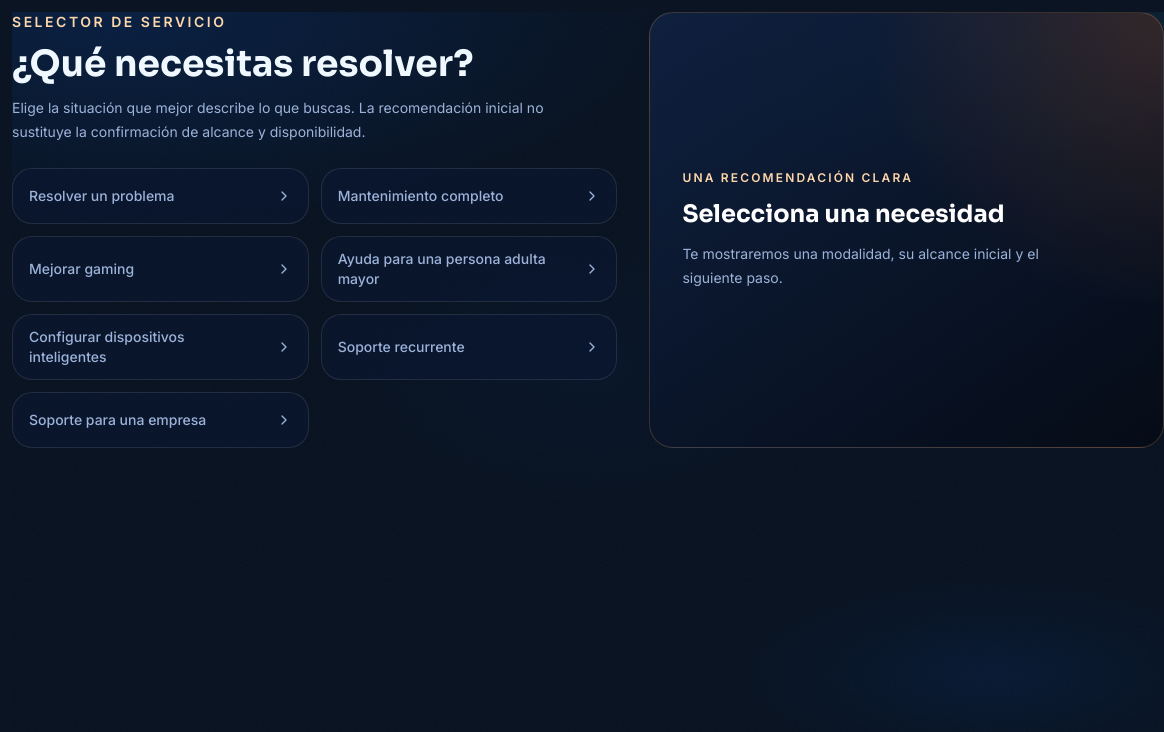
Test case: Nova Assist service guidance › recommends Premium when a problem also needs broader maintenance
Click the button "Resolver un problema". click: click(160, 196)
box: [12, 168, 309, 224]
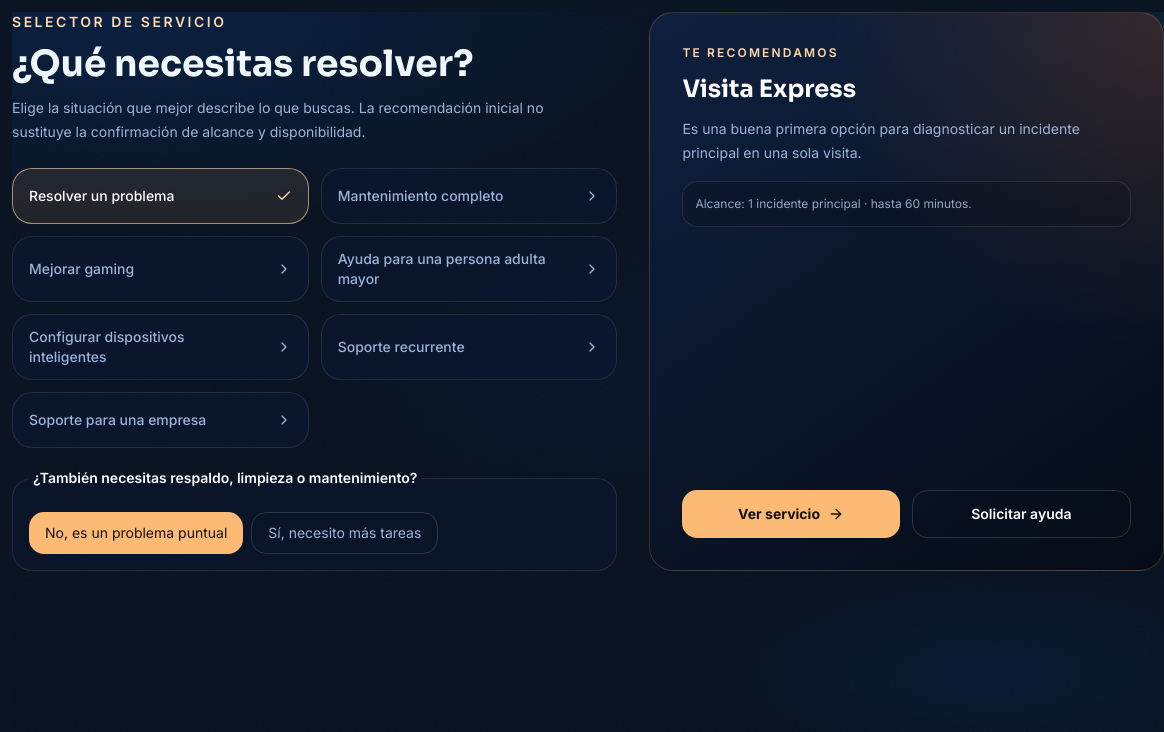
Click the button "Sí, necesito más tareas". click: click(345, 533)
box: [251, 512, 438, 554]
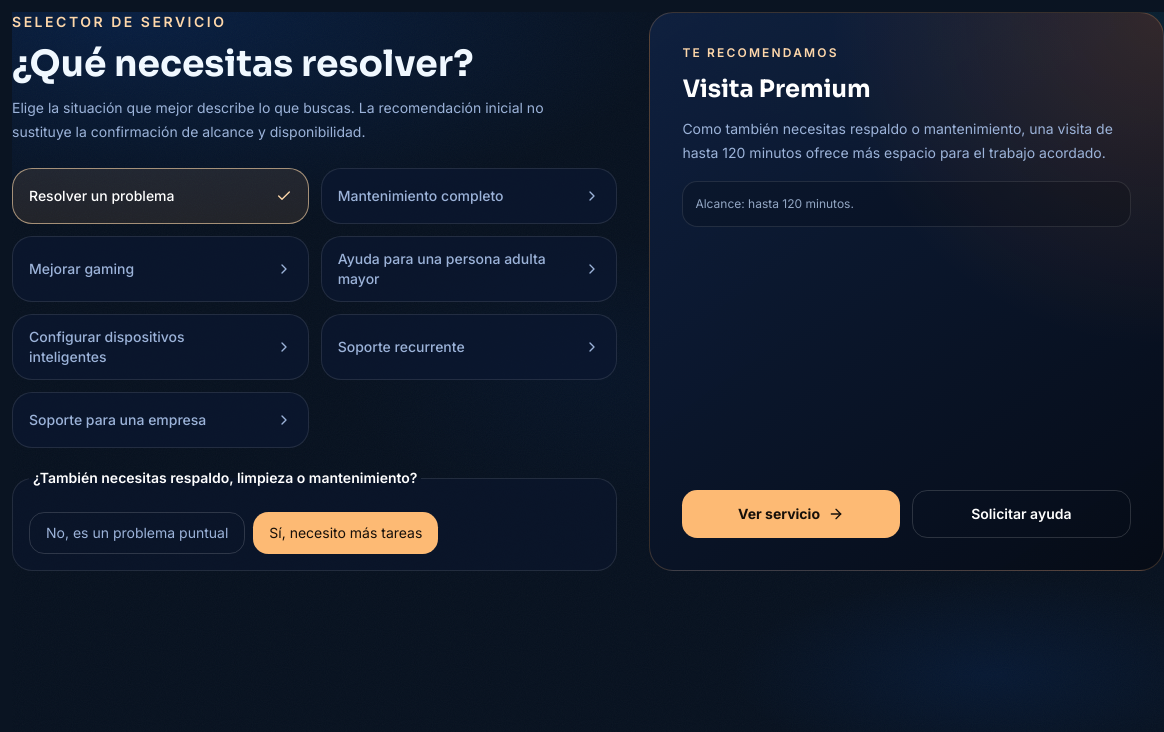
Expected: the heading "Visita Premium" is shown, [682, 74, 871, 104]
